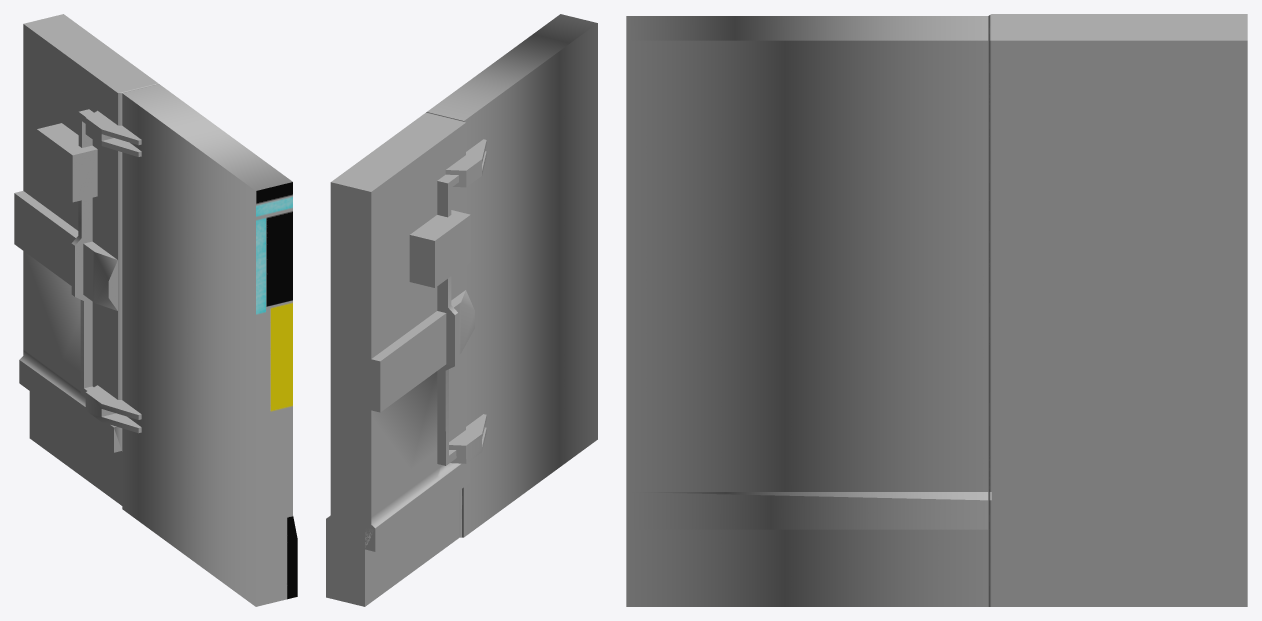
The model's file is shield_generator_opposite.fbx.
3 renders of one model, left to right at view 1: azimuth 30°, elevation 25°; view 2: azimuth 150°, elevation 25°; view 3: azimuth 270°, elevation 25°, orthographic. The views are drawn at different scales.
Parts seen in each view (by area): view 1: shield_genny_opposite; view 2: shield_genny_opposite; view 3: shield_genny_opposite.
Part boxes in pixels (left/top/right/bottom): shield_genny_opposite: left=14, top=14, right=297, bottom=606; shield_genny_opposite: left=326, top=14, right=597, bottom=606; shield_genny_opposite: left=626, top=14, right=1247, bottom=606.
Size of the model in its own units: 176 by 1000 by 1000.
